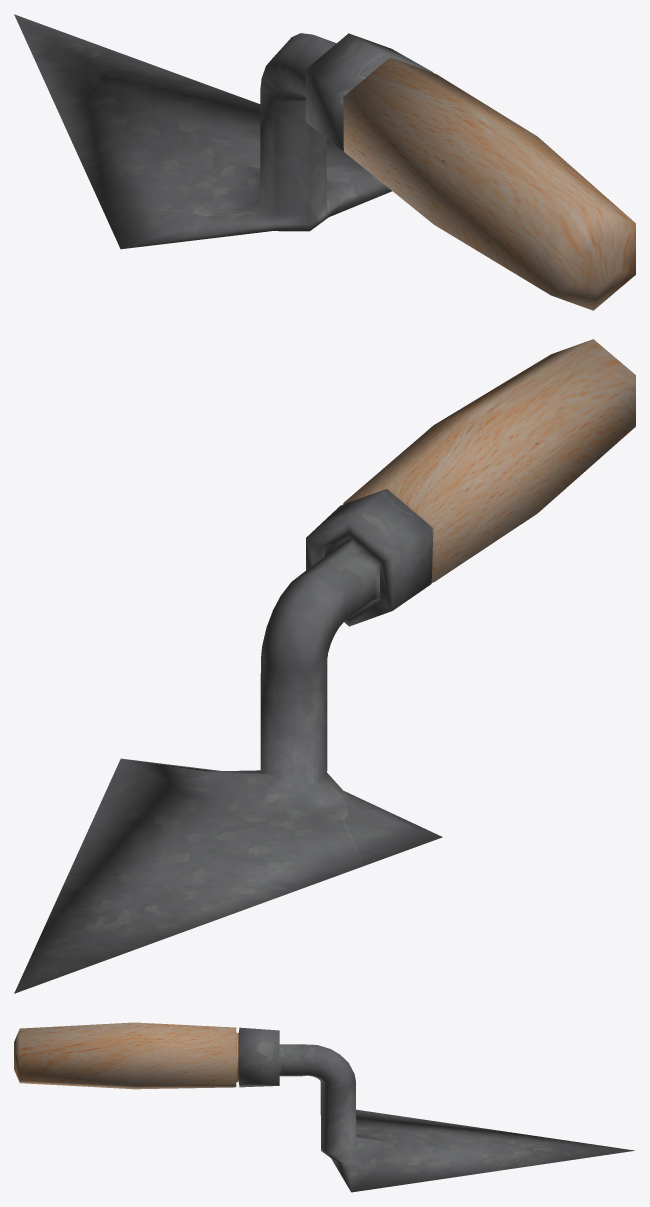
Rendered from throwel.glb.
3 renders of one model, top to bottom at view 1: azimuth 30°, elevation 25°; view 2: azimuth 150°, elevation 25°; view 3: azimuth 270°, elevation 25°, orthographic. The views are drawn at different scales.
Visible parts, largest first — view 1: Cylinder; view 2: Cylinder; view 3: Cylinder.
Part boxes in pixels (box(x1,y1,x2,y2)): Cylinder: box(14, 14, 635, 310); Cylinder: box(14, 339, 635, 993); Cylinder: box(14, 1022, 634, 1192).
Size of the model in its own units: 3.44 by 2.47 by 10.84.
2 materials, 2 textured.
